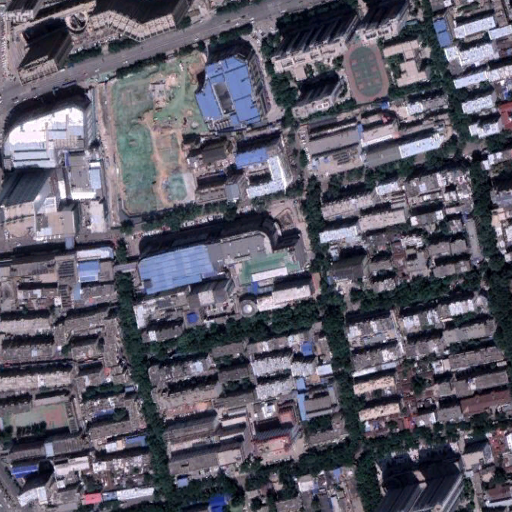cw: (109, 51, 203, 215)
